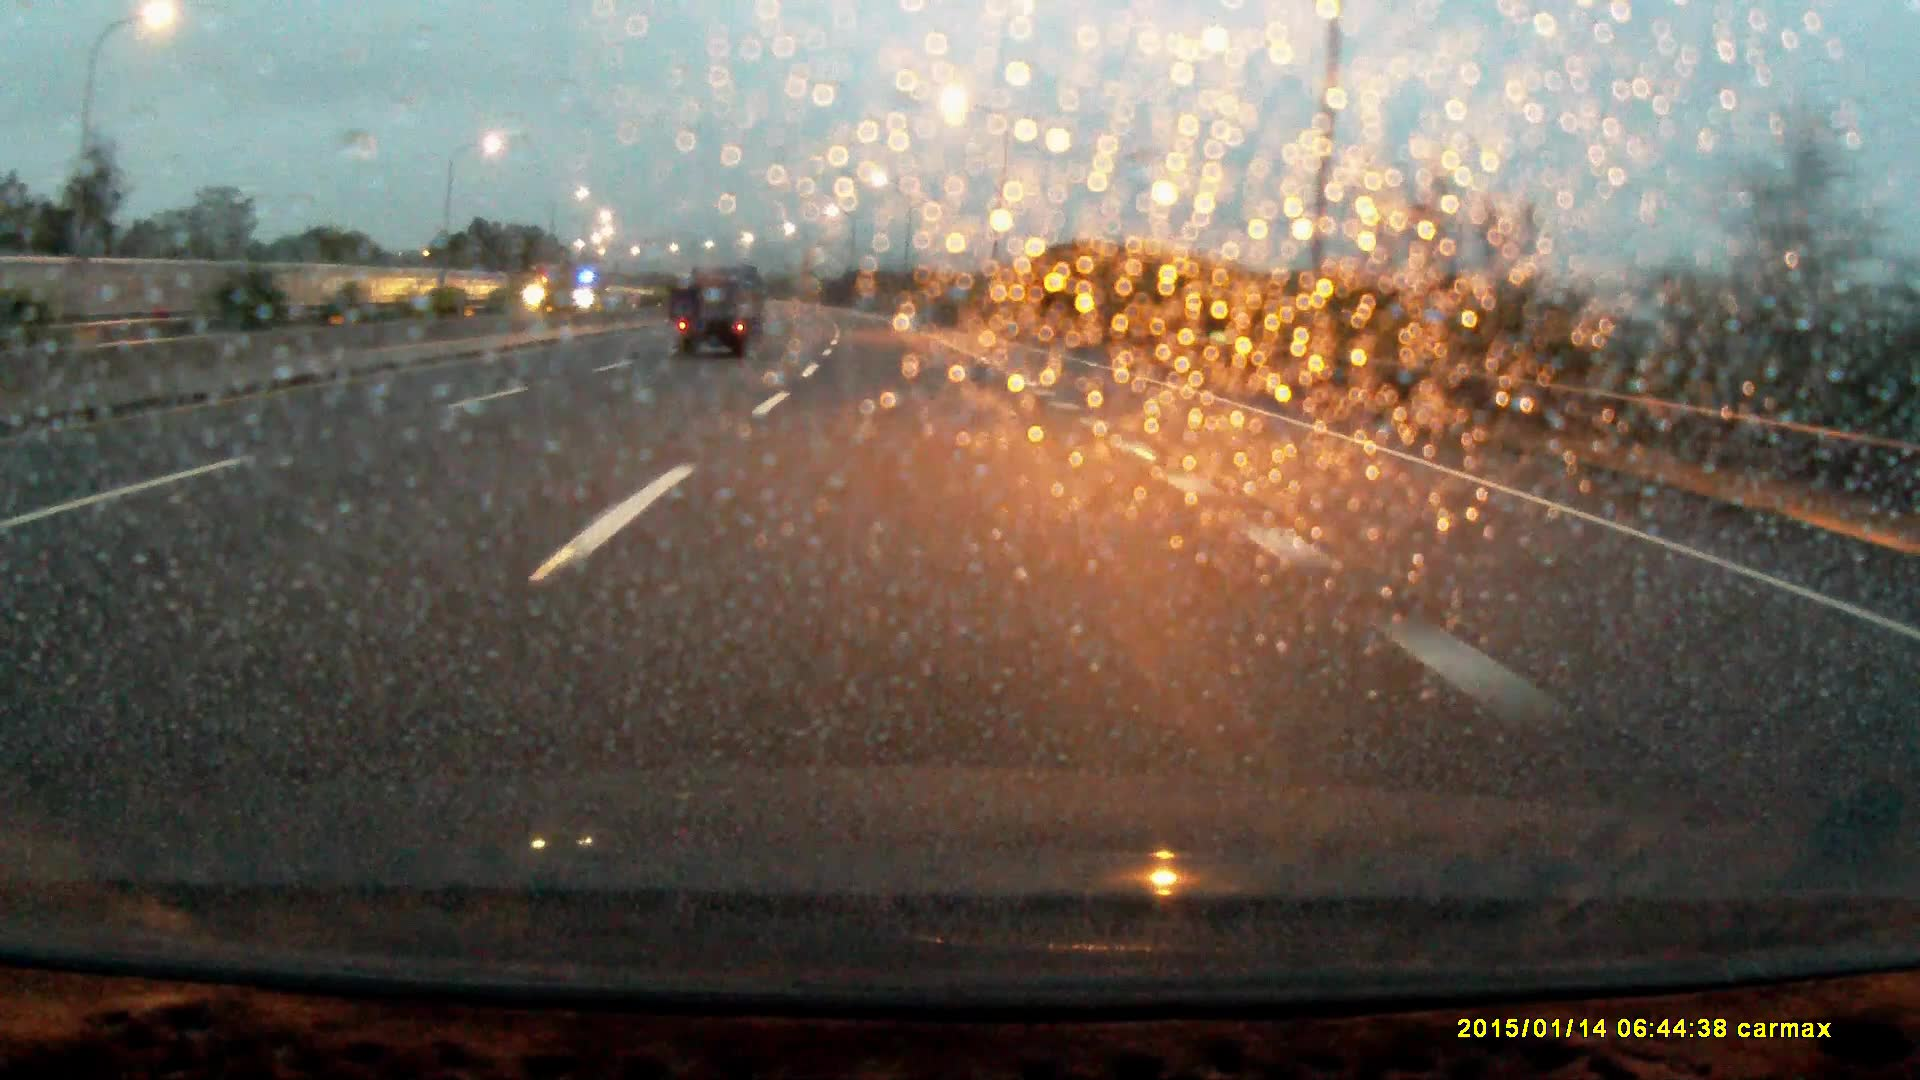vehicle: (676, 265, 764, 361), (517, 262, 578, 313)
